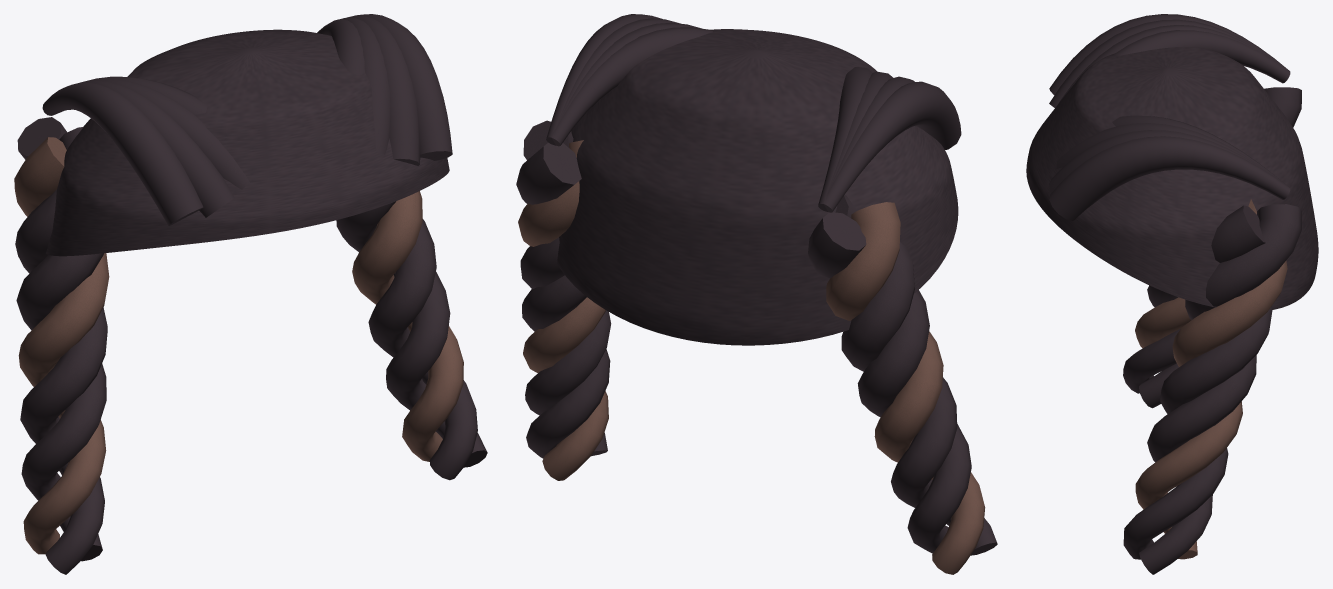
Rendered from hair_braids_default.gltf.
The picture shows the model from 3 angles, left to right: view 1: azimuth 30°, elevation 25°; view 2: azimuth 150°, elevation 25°; view 3: azimuth 270°, elevation 25°; orthographic projection. The views are drawn at different scales.
Visible parts, largest first — view 1: Twin Braids default; view 2: Twin Braids default; view 3: Twin Braids default.
Part boxes in pixels (x1=…): Twin Braids default: x1=14, y1=14, x2=487, y2=574; Twin Braids default: x1=516, y1=14, x2=997, y2=574; Twin Braids default: x1=1026, y1=14, x2=1318, y2=574.
Bounding box in the file's own units: 0.5639 × 0.5598 × 0.36.
2 materials, 2 textured.
